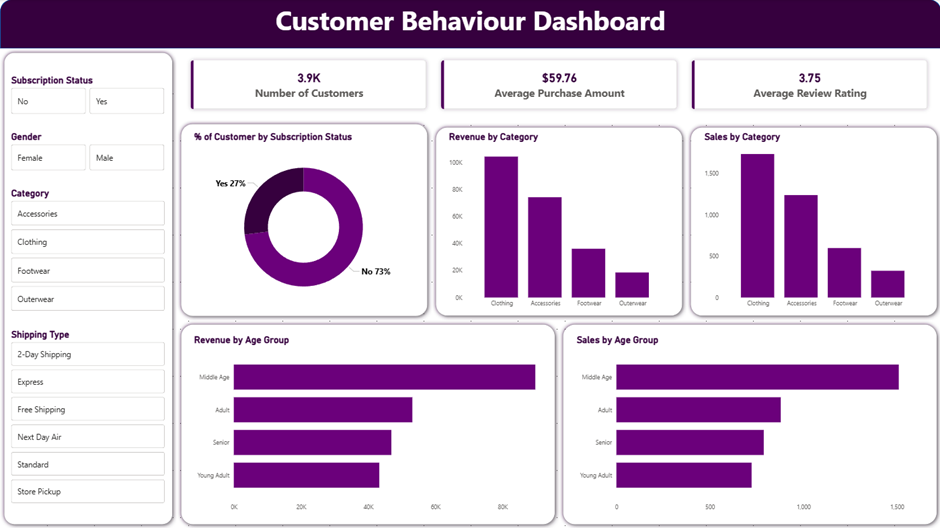

The dashboard page shown, as its layout file describes it:
{"tool":"powerbi","page":{"name":"Page 1","canvas":[1920,1080],"ordinal":0},"visuals":[{"type":"shape","box":[360.4,654.3,779.8,425.4],"z":0},{"type":"shape","box":[1140.2,654.3,779.8,425.4],"z":1000},{"type":"shape","box":[360.4,245.2,519.9,409.1],"z":2000},{"type":"cardVisual","fields":{"Data":["BaseMeasures.Number of Customers","BaseMeasures.Average Purchase Amount","BaseMeasures.Average Review Rating"]},"box":[360.4,96,1559.6,156.6],"z":3000},{"type":"shape","box":[0,0,1920,100.4],"z":4000},{"type":"textbox","box":[0,0,1920,82.7],"z":5000},{"type":"shape","box":[880.2,252.6,519.9,401.7],"z":6000},{"type":"donutChart","title":"% of Customer by Subscription Status","fields":{"Category":["public customer.subscription_status"],"Y":["Count(public customer.customer_id)"]},"box":[391.4,268.8,456.4,369.2],"z":7000},{"type":"shape","box":[1400.1,252.6,519.9,401.7],"z":8000},{"type":"clusteredColumnChart","title":"Revenue by Category","fields":{"Y":["Sum(public customer.purchase_amount)"],"Category":["public customer.category"]},"box":[911.3,268.8,456.4,369.2],"z":9000},{"type":"clusteredColumnChart","title":"Sales by Category","fields":{"Y":["CountNonNull(public customer.customer_id)"],"Category":["public customer.category"]},"box":[1431.1,268.8,456.4,369.2],"z":10000},{"type":"shape","box":[0,100.4,360.4,979.2],"z":11000},{"type":"advancedSlicerVisual","title":"Subscription Status","fields":{"Values":["public customer.subscription_status"]},"box":[17.7,153.3,323.4,85.7],"z":12000},{"type":"advancedSlicerVisual","title":"Gender","fields":{"Values":["public customer.gender"]},"box":[17.7,268.5,323.4,85.7],"z":13000},{"type":"advancedSlicerVisual","title":"Category","fields":{"Values":["public customer.category"]},"box":[17.7,383.7,323.4,258.5],"z":14000},{"type":"advancedSlicerVisual","title":"Shipping Type","fields":{"Values":["public customer.shipping_type"]},"box":[17.7,671.7,323.4,360.4],"z":15000},{"type":"clusteredBarChart","title":"Revenue by Age Group","fields":{"Y":["Sum(public customer.purchase_amount)"],"Category":["public customer.age_group"]},"box":[391.4,682.3,717.8,370.7],"z":16000},{"type":"clusteredBarChart","title":"Sales by Age Group","fields":{"Category":["public customer.age_group"],"Y":["CountNonNull(public customer.customer_id)"]},"box":[1171.2,682.3,716.3,370.7],"z":17000}]}

Visuals, with their boxes in screenshot pixels (x1, y1, x2, y2), scaled from the page's 1920x1080 canvas onto the 940x528 screenshot:
shape: bbox=[176, 320, 558, 527]
shape: bbox=[558, 320, 939, 527]
shape: bbox=[176, 120, 431, 320]
cardVisual - BaseMeasures.Number of Customers x BaseMeasures.Average Purchase Amount: bbox=[176, 47, 939, 123]
shape: bbox=[0, 0, 939, 49]
textbox: bbox=[0, 0, 939, 40]
shape: bbox=[431, 123, 685, 320]
"% of Customer by Subscription Status" donutChart: bbox=[192, 131, 415, 312]
shape: bbox=[685, 123, 939, 320]
"Revenue by Category" clusteredColumnChart: bbox=[446, 131, 670, 312]
"Sales by Category" clusteredColumnChart: bbox=[701, 131, 924, 312]
shape: bbox=[0, 49, 176, 527]
"Subscription Status" advancedSlicerVisual: bbox=[9, 75, 167, 117]
"Gender" advancedSlicerVisual: bbox=[9, 131, 167, 173]
"Category" advancedSlicerVisual: bbox=[9, 188, 167, 314]
"Shipping Type" advancedSlicerVisual: bbox=[9, 328, 167, 505]
"Revenue by Age Group" clusteredBarChart: bbox=[192, 334, 543, 515]
"Sales by Age Group" clusteredBarChart: bbox=[573, 334, 924, 515]
